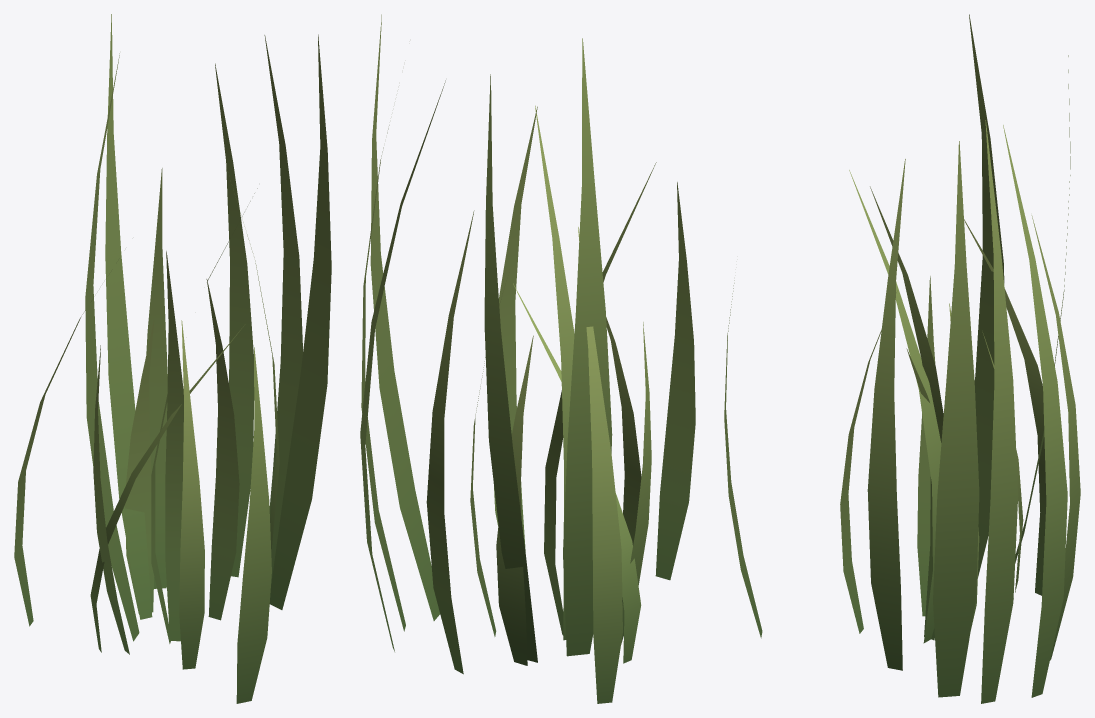
File: Grass_Tuft_05.glb
3 renders of one model, left to right at view 1: azimuth 30°, elevation 25°; view 2: azimuth 150°, elevation 25°; view 3: azimuth 270°, elevation 25°, orthographic. The views are drawn at different scales.
Visible parts, largest first — view 1: Grass_Tuft_05; view 2: Grass_Tuft_05; view 3: Grass_Tuft_05.
Boxes of the visible parts, bbox=[...] form: Grass_Tuft_05: bbox=[14, 14, 331, 703]; Grass_Tuft_05: bbox=[360, 14, 695, 703]; Grass_Tuft_05: bbox=[724, 14, 1080, 703].
Size of the model in its own units: 0.2241 by 0.4599 by 0.2442.
